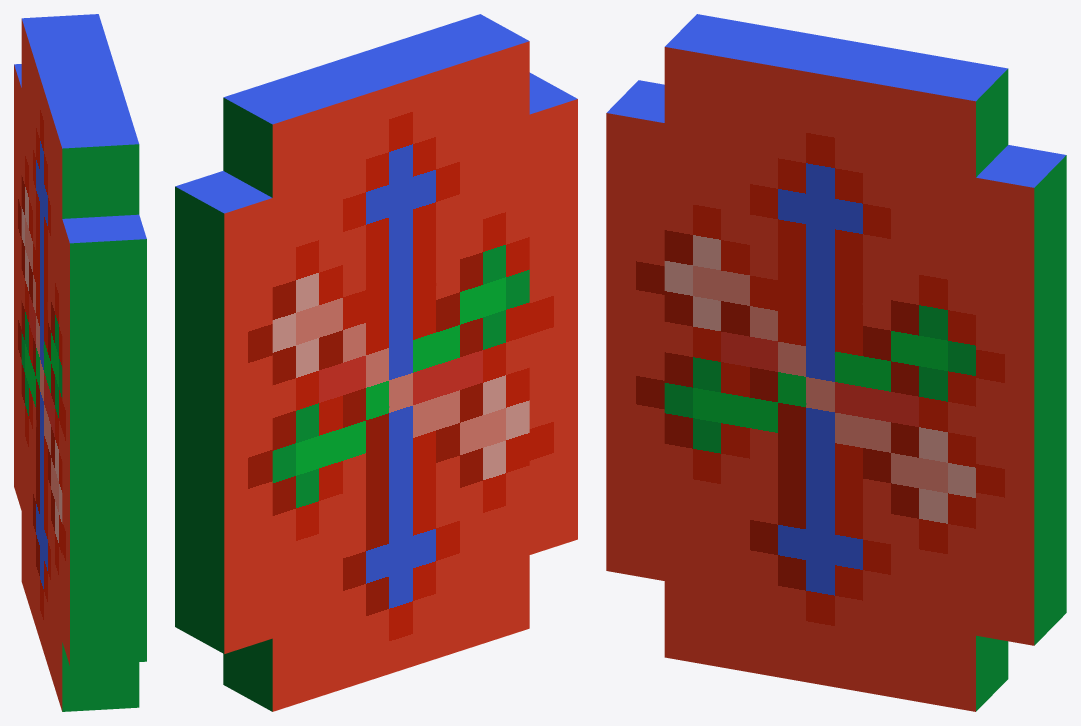
Rendered from axisToken-5.fbx.
3 renders of one model, left to right at view 1: azimuth 30°, elevation 25°; view 2: azimuth 150°, elevation 25°; view 3: azimuth 270°, elevation 25°, orthographic. The views are drawn at different scales.
Visible parts, largest first — view 1: cube, cube_2, cube_1; view 2: cube, cube_1, cube_2; view 3: cube, cube_1, cube_2.
Part boxes in pixels (x1,y1,x2,y2): cube: (21, 14, 139, 711); cube_2: (62, 214, 146, 665); cube_1: (14, 64, 21, 510); cube: (223, 14, 529, 711); cube_1: (175, 171, 272, 653); cube_2: (529, 72, 577, 554); cube: (664, 14, 1008, 711); cube_1: (976, 145, 1066, 645); cube_2: (606, 80, 664, 580).
Size of the model in its own units: 18.93 by 50 by 34.15.
1 material, 1 textured.
